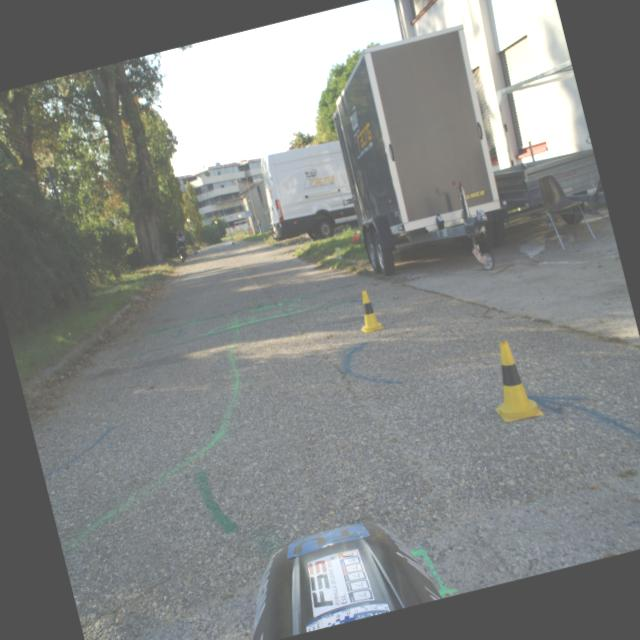yellow_cone: (480, 335, 544, 426), (351, 287, 384, 333)
